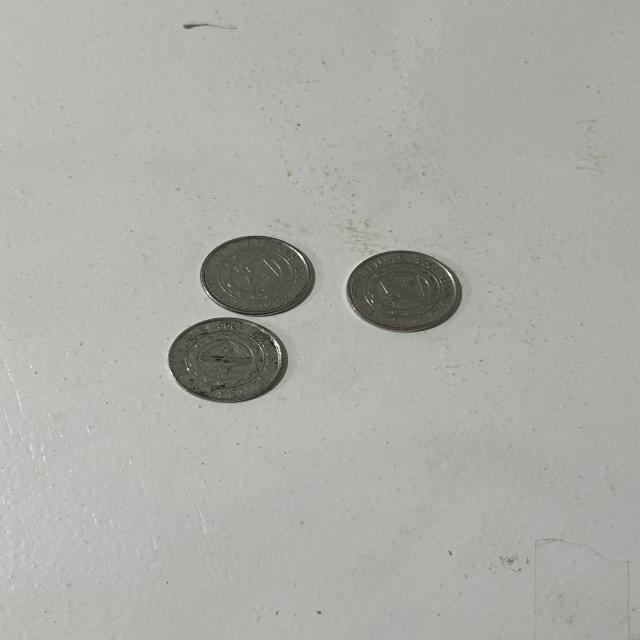1_Old_Back: (184, 325, 268, 392), (357, 262, 447, 321), (212, 245, 302, 298)
